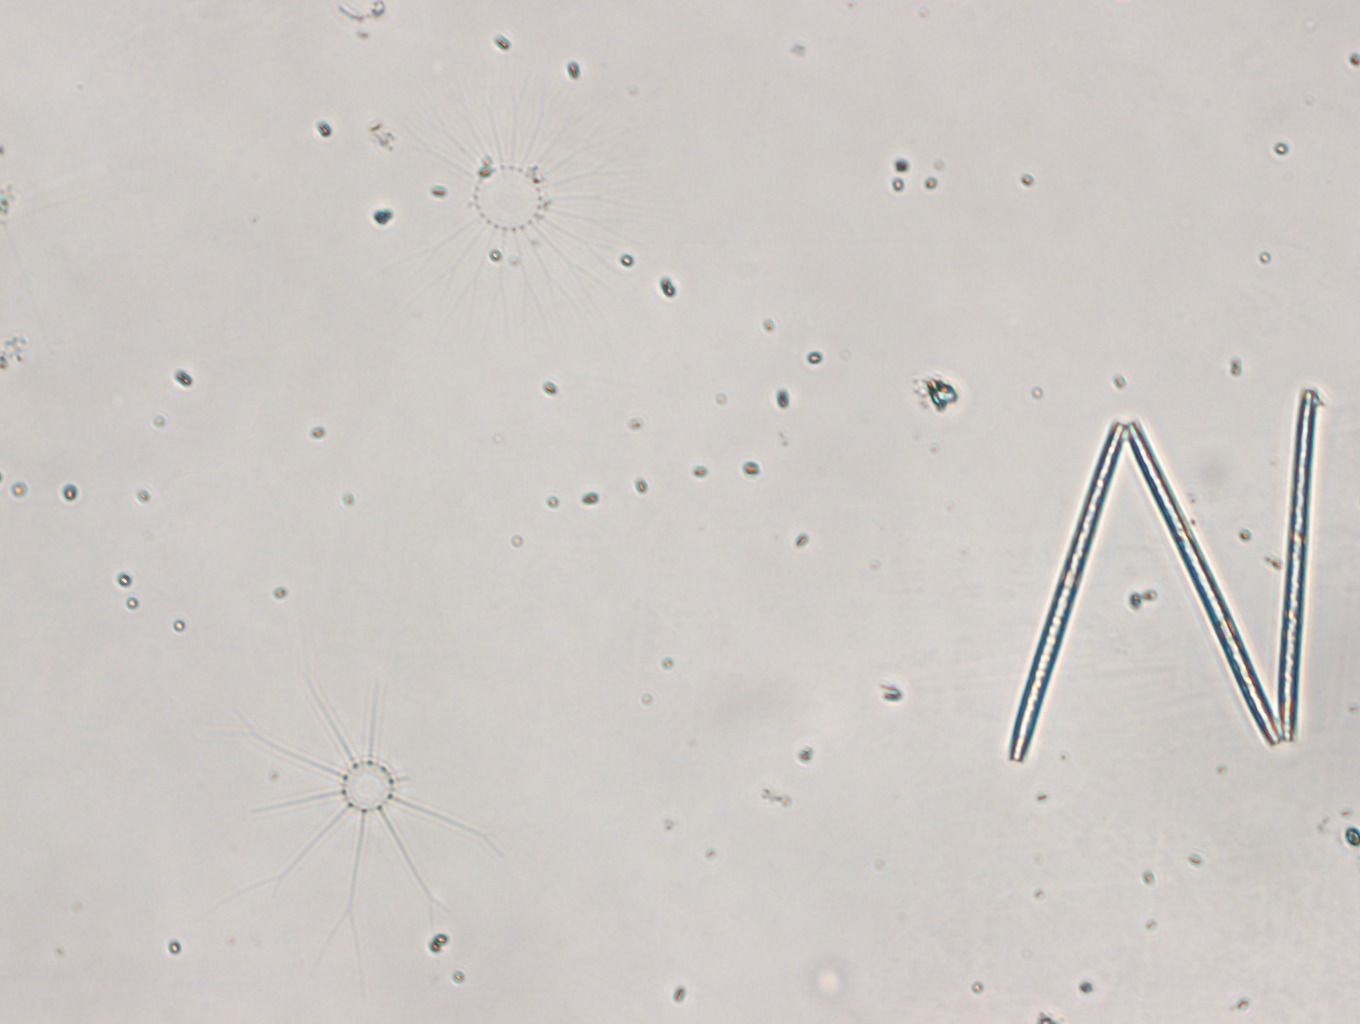bacteriastrum: (239, 678, 514, 971), (393, 72, 659, 345)
thalassionema nitzschioides: (1007, 389, 1316, 765)
